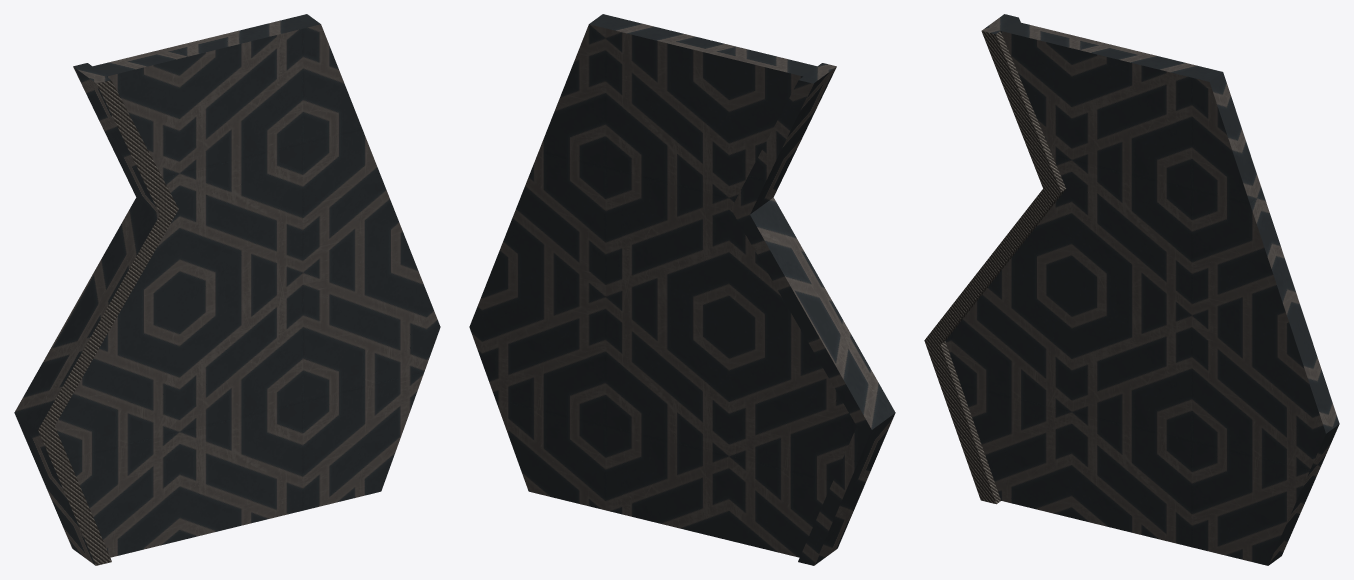
The model's file is puerta-2b.obj.
The picture shows the model from 3 angles, left to right: view 1: azimuth 30°, elevation 25°; view 2: azimuth 150°, elevation 25°; view 3: azimuth 330°, elevation 25°; orthographic projection. The views are drawn at different scales.
Visible parts, largest first — view 1: polySurface2551 polySurface2160; view 2: polySurface2551 polySurface2160; view 3: polySurface2551 polySurface2160.
Part boxes in pixels (x1,y1,x2,y2): polySurface2551 polySurface2160: (14,14,440,565); polySurface2551 polySurface2160: (469,14,895,565); polySurface2551 polySurface2160: (924,14,1339,565).
Bounding box in the file's own units: 10 × 11.31 × 1.01.
2 materials, 2 textured.
